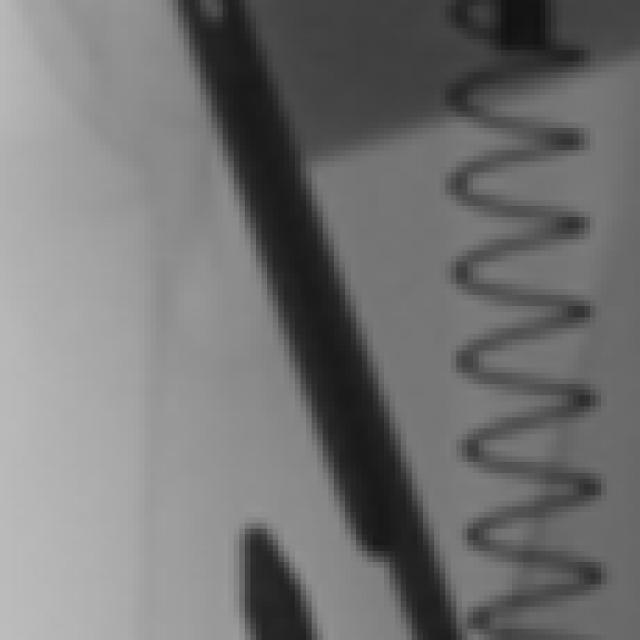GUN: (219, 518, 324, 640)
